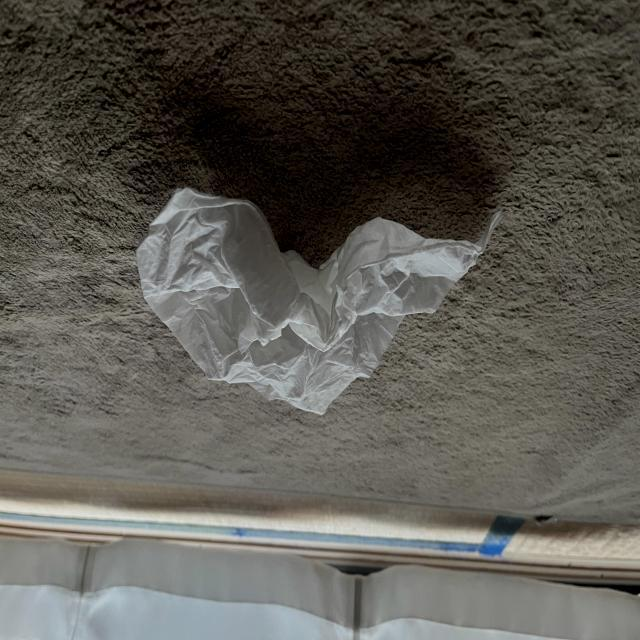Paper: (126, 177, 476, 415)
